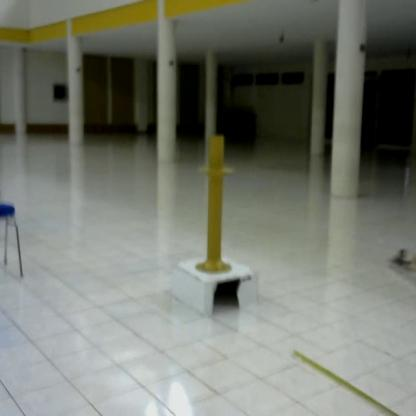pole: (198, 131, 235, 279)
